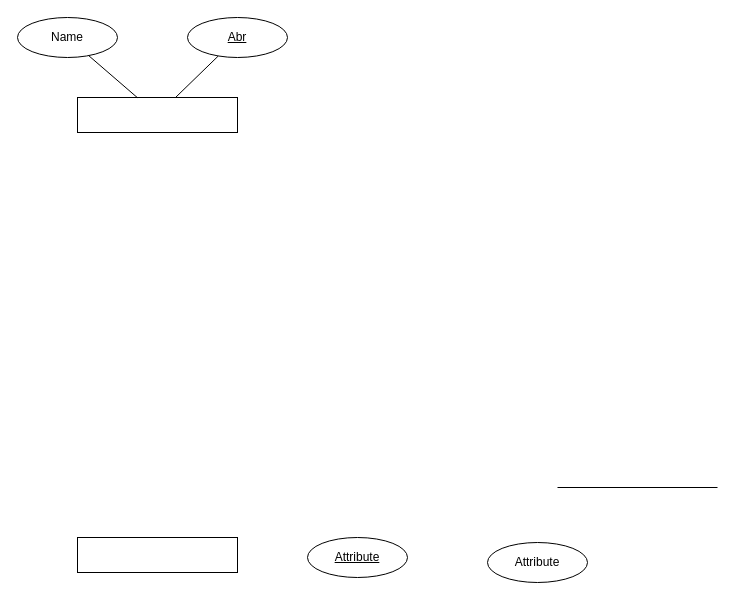
This 736x600 diagram has some shape labels left out. Each missing label, with the centre of its shape:
Entity: the point at 157,554
Subject: the point at 157,114
